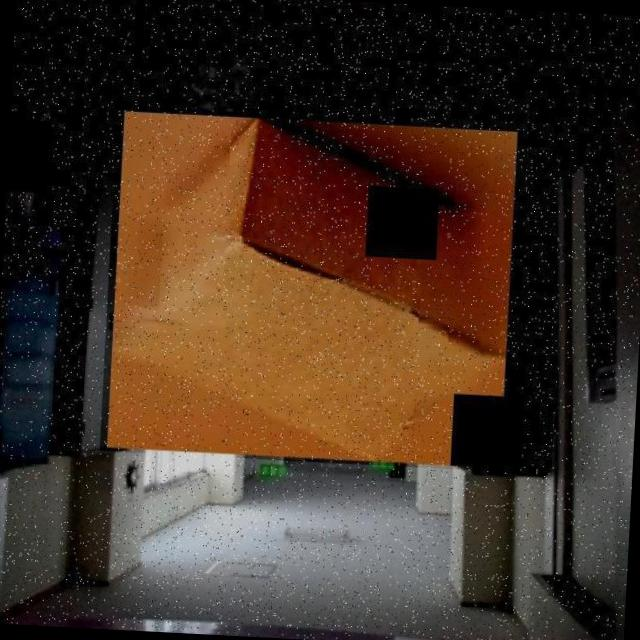box: (99, 105, 524, 472)
